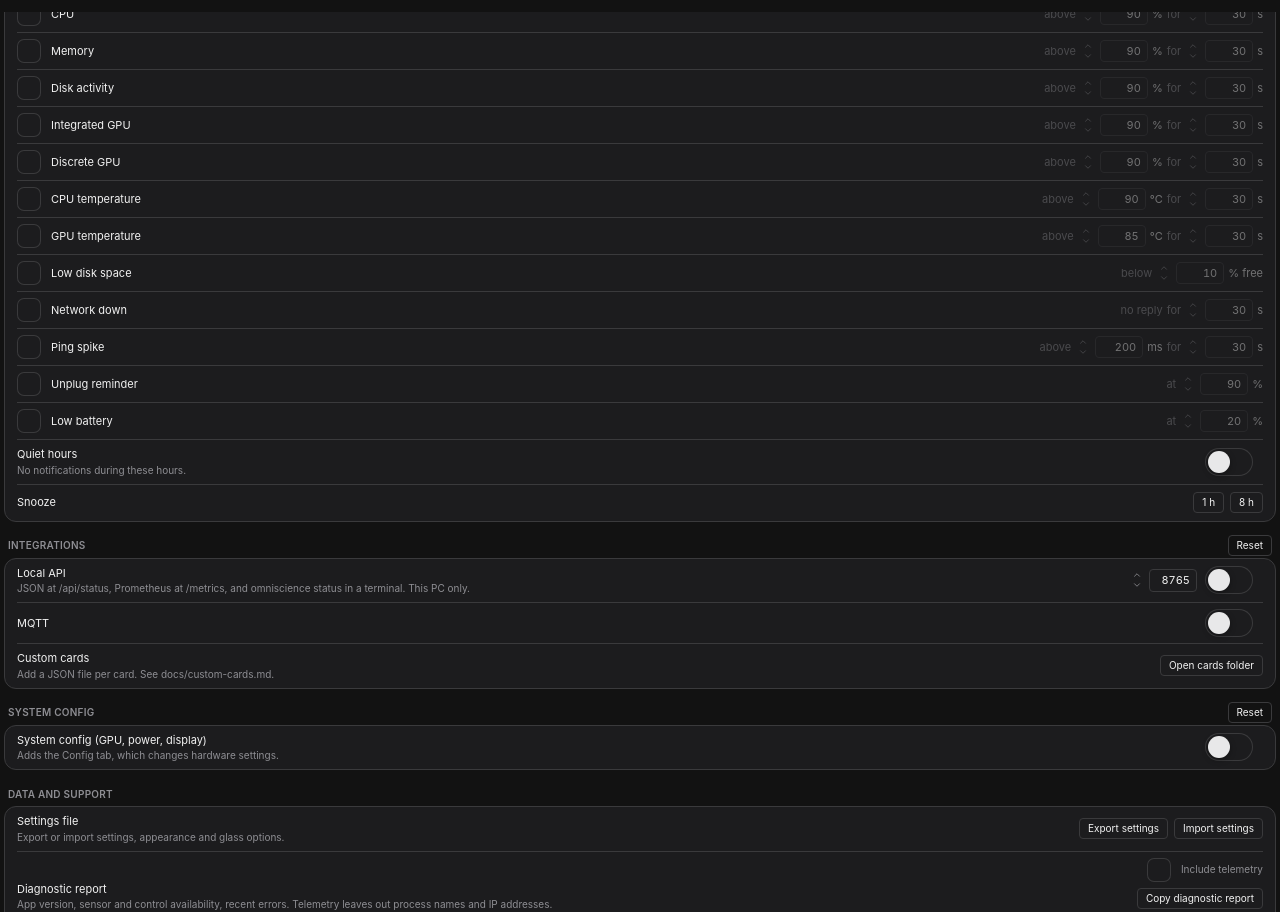
it: AlertsSettings › snoozes for an hour and resumes
(page scrolled)
Step 1. Click the button "1 h" → (1209, 502), box [1193,492,1224,513]
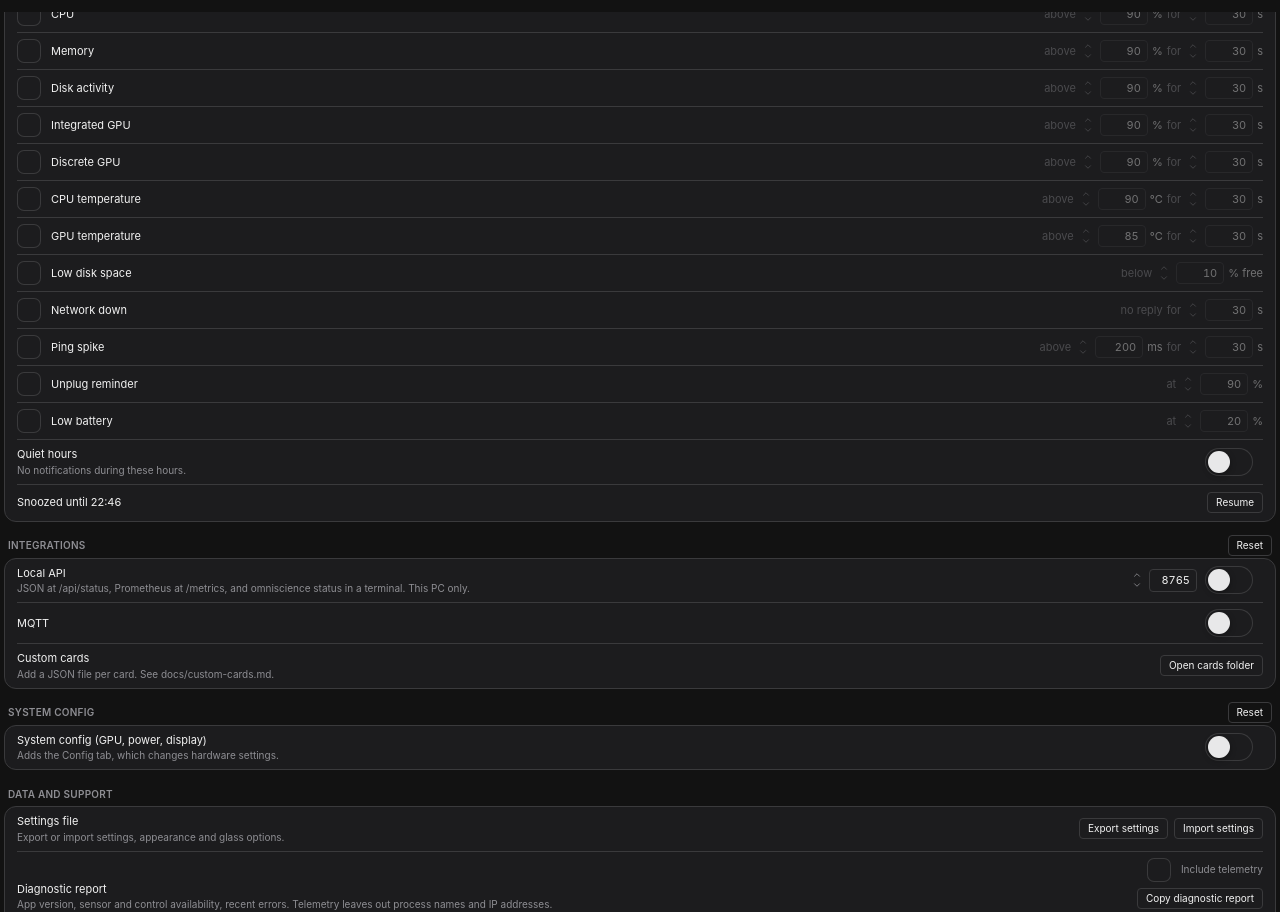
Now the text "Snoozed until 22:46" is shown, box [17,494,121,511]
Step 2. Click the button "Resume" → (1235, 502), box [1207,492,1263,513]
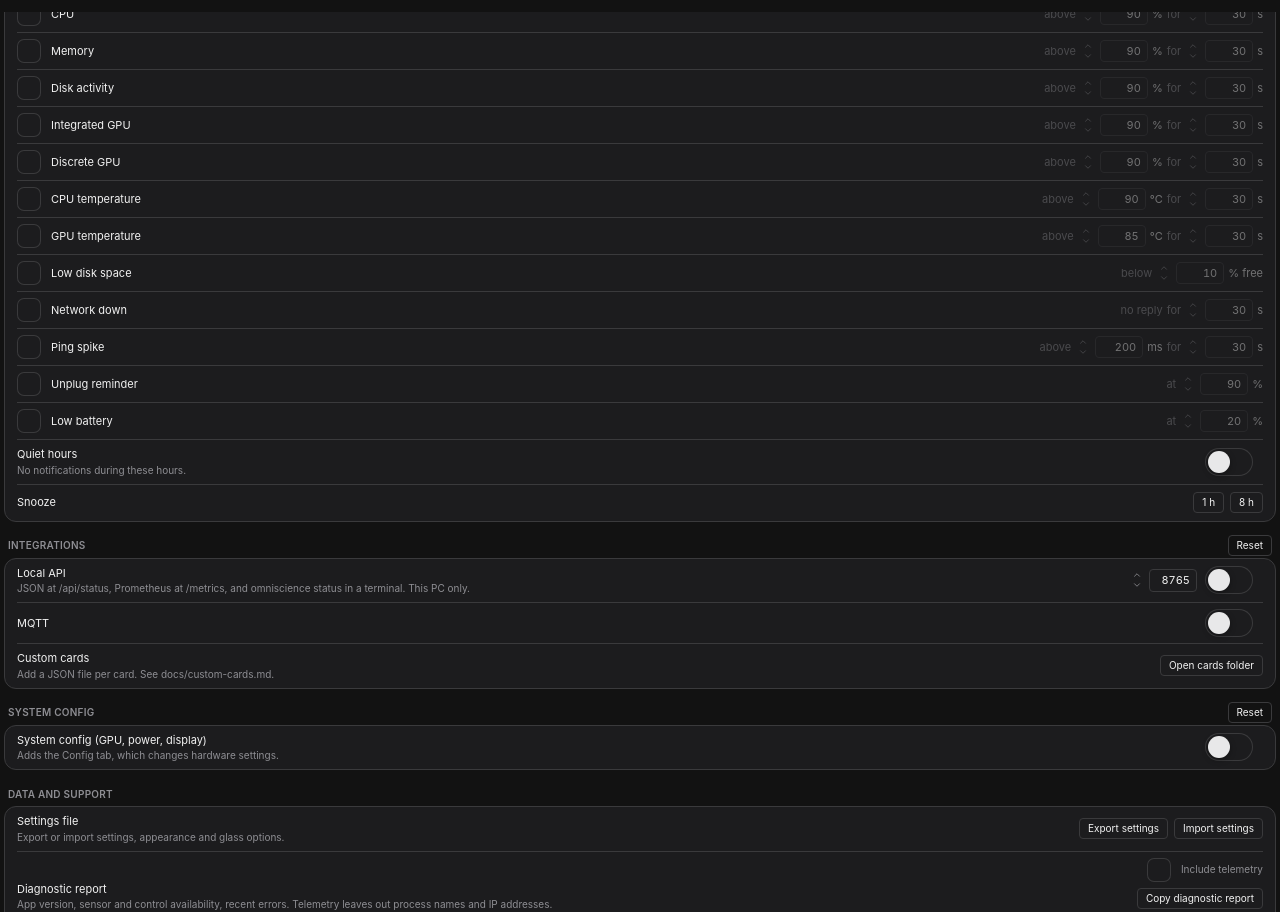
Now the button "8 h" is shown, box [1230,492,1263,513]
